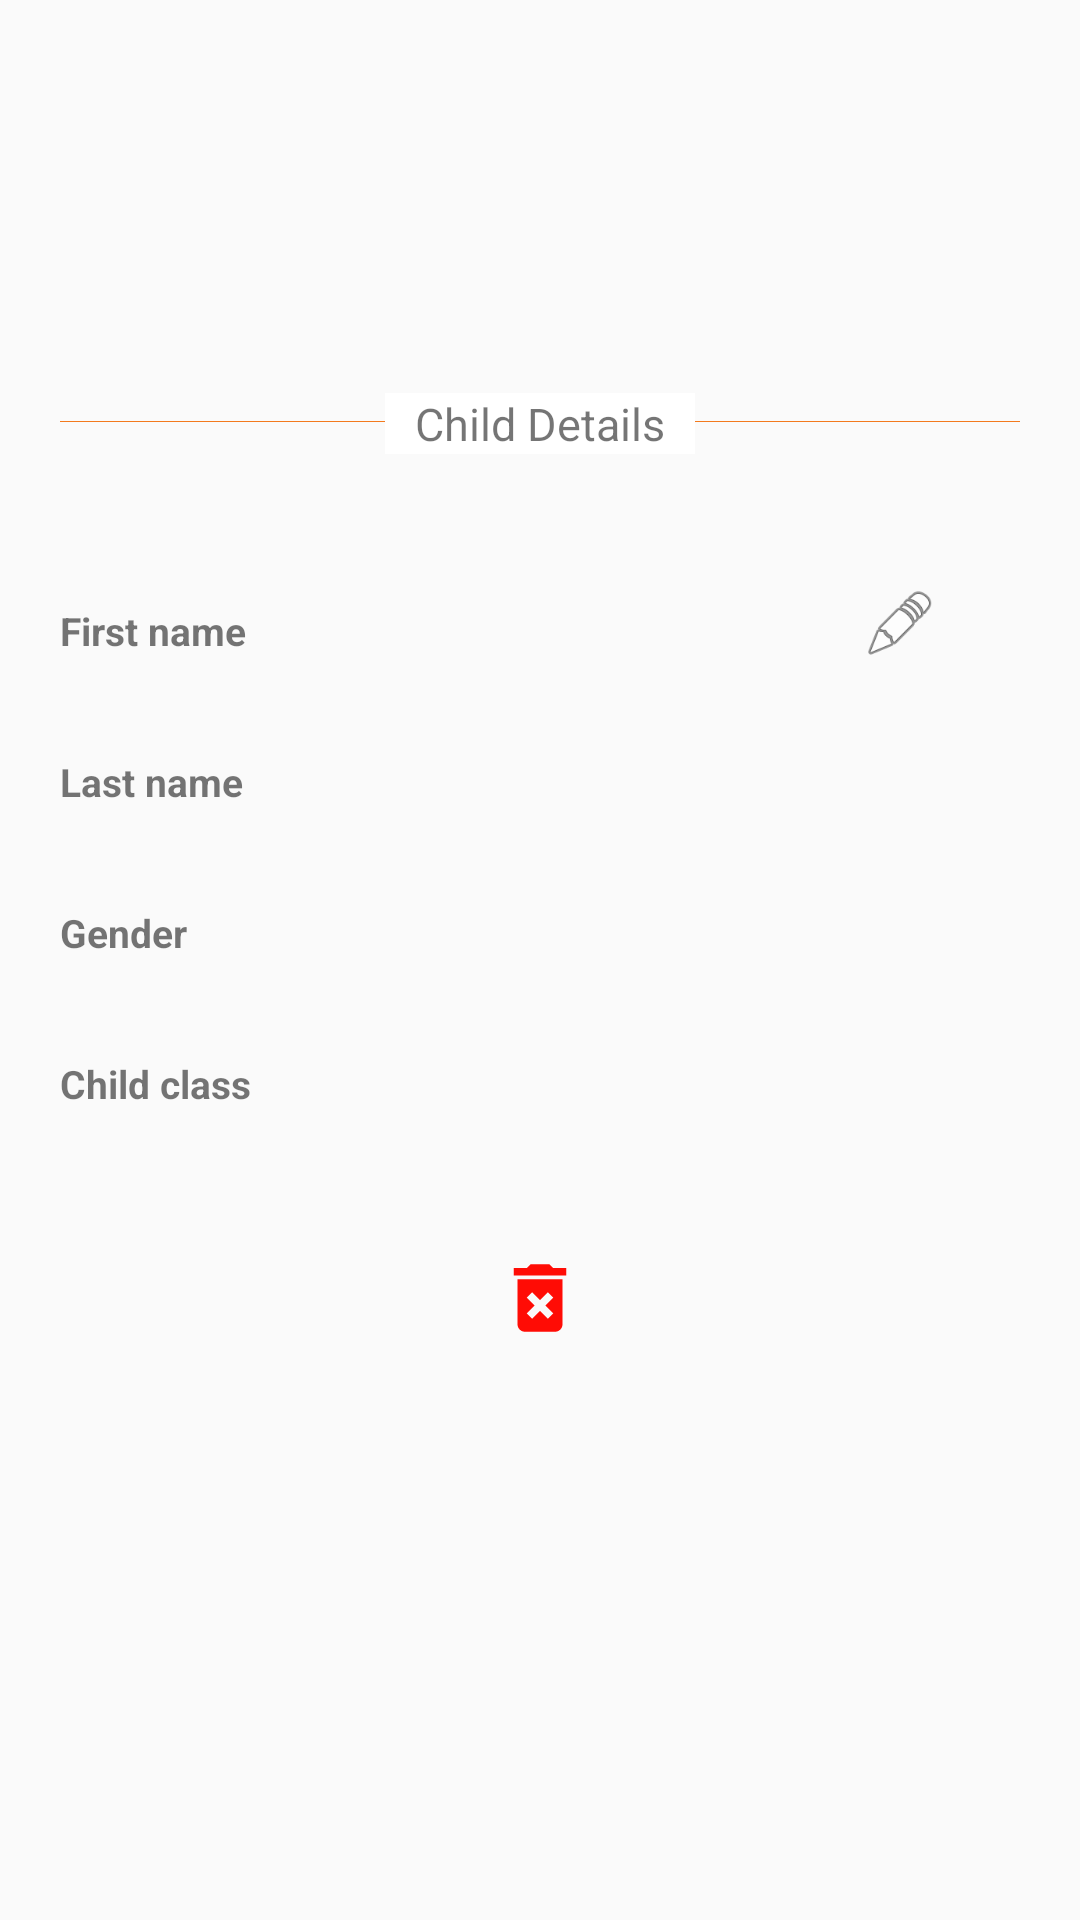

Screen size 1080px×1920px. Icon name, then its box in pixels as (x1, y1, x2, y2):
delete: (513, 1264, 567, 1332)
edit: (868, 591, 931, 655)
